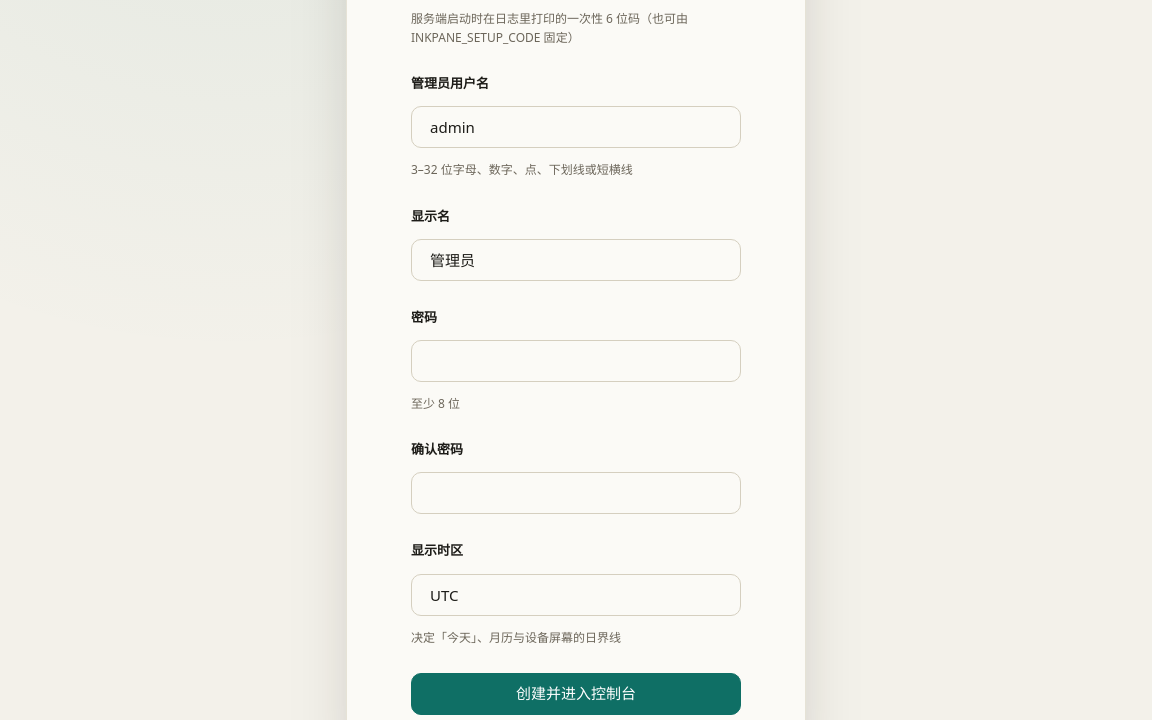
it: SetupPage 初始化码 › 缺少初始化码时拦截提交
The width and height of the screenshot is (1152, 720).
(page scrolled)
In the password field labelled "密码": (576, 361) x1=411 y1=340 x2=741 y2=382, type "password123"
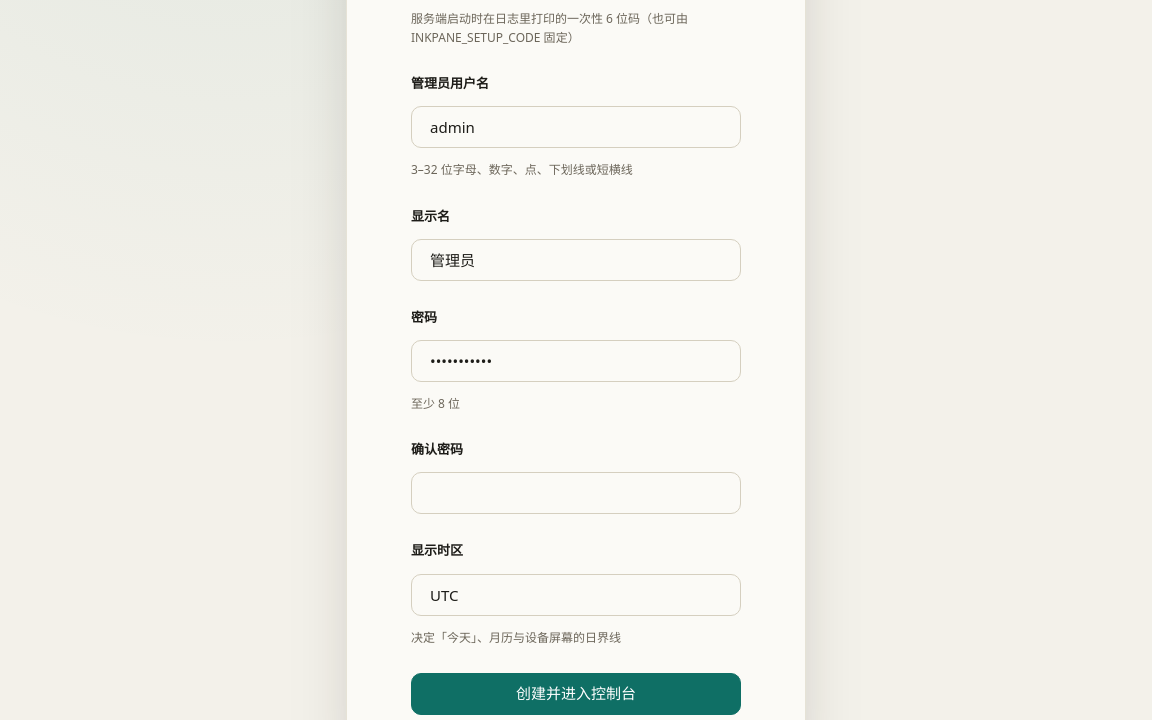
In the password field labelled "确认密码": (576, 494) x1=411 y1=472 x2=741 y2=514, type "password123"
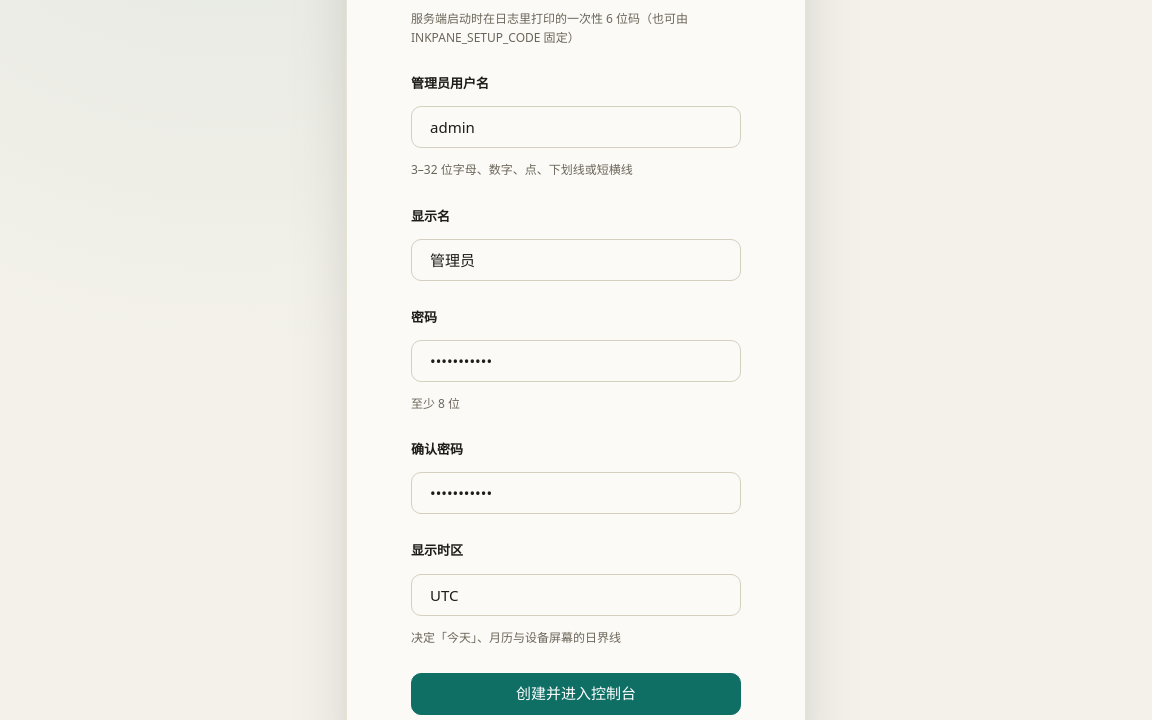
Click the button "创建并进入控制台": (576, 694) x1=411 y1=673 x2=741 y2=715
(page scrolled)
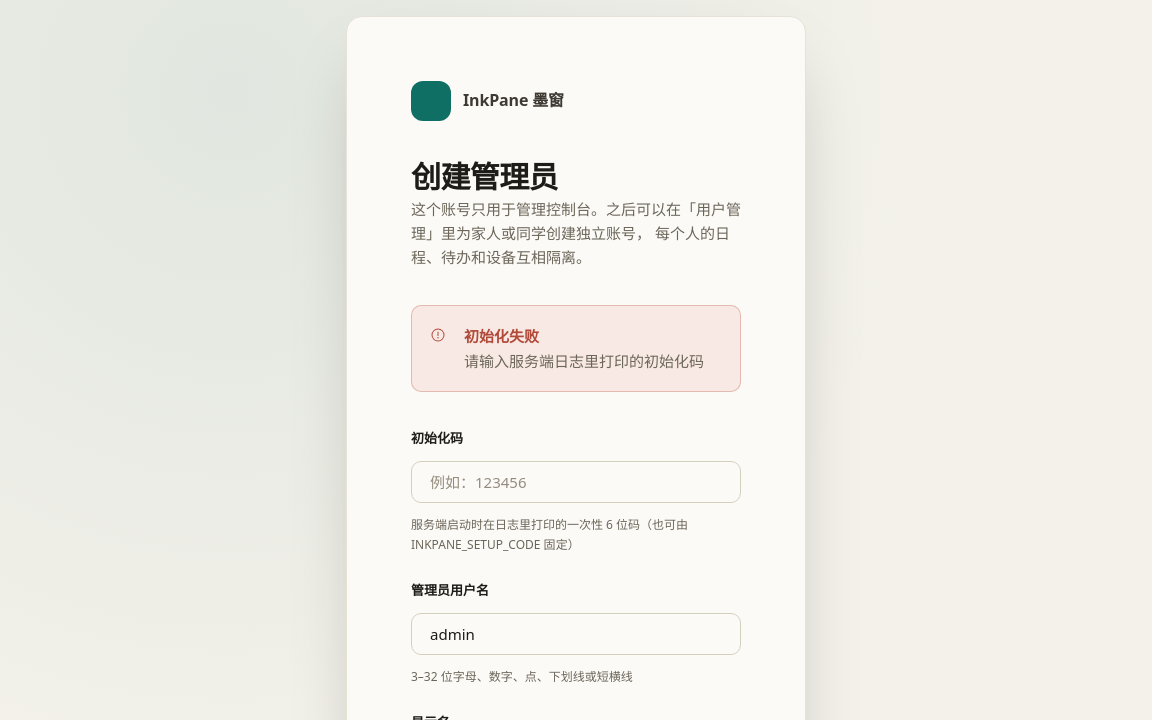
Expected: the text "请输入服务端日志里打印的初始化码" is shown, x1=464 y1=349 x2=722 y2=373
